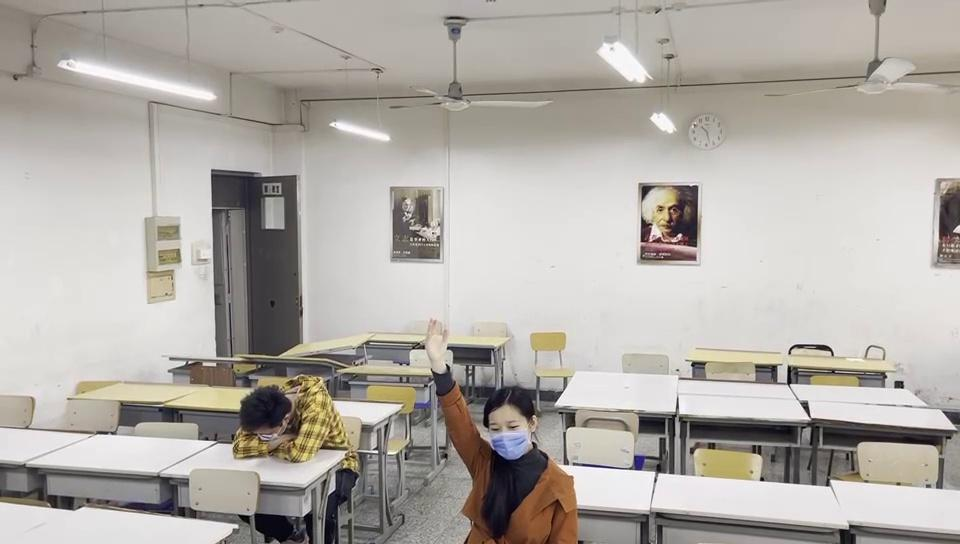sleep: (231, 375, 342, 464)
study: (426, 319, 576, 543)
